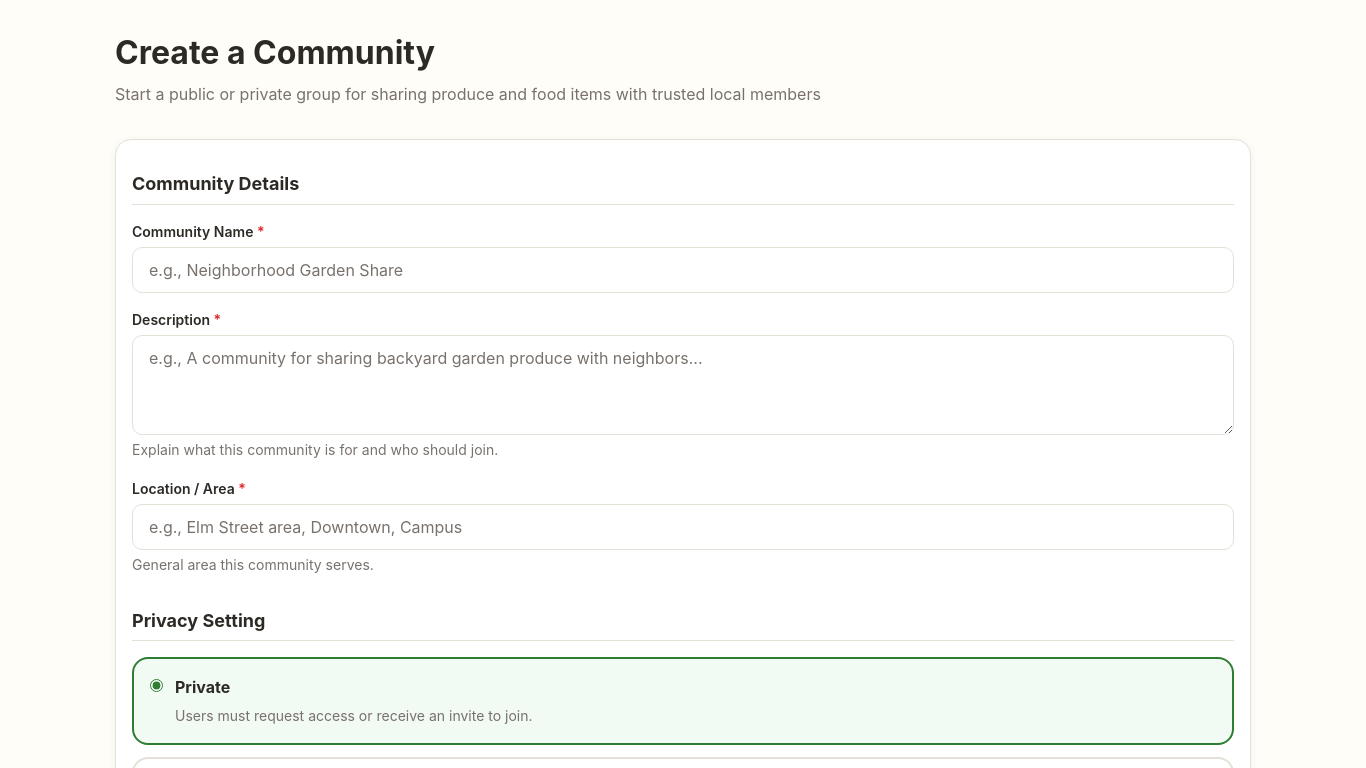
Test case: CreateCommunity › must show success screen after valid submission
Type "Green Valley Community" into the field labelled "Community Name *" at (683, 270), box [132,247,1234,293]
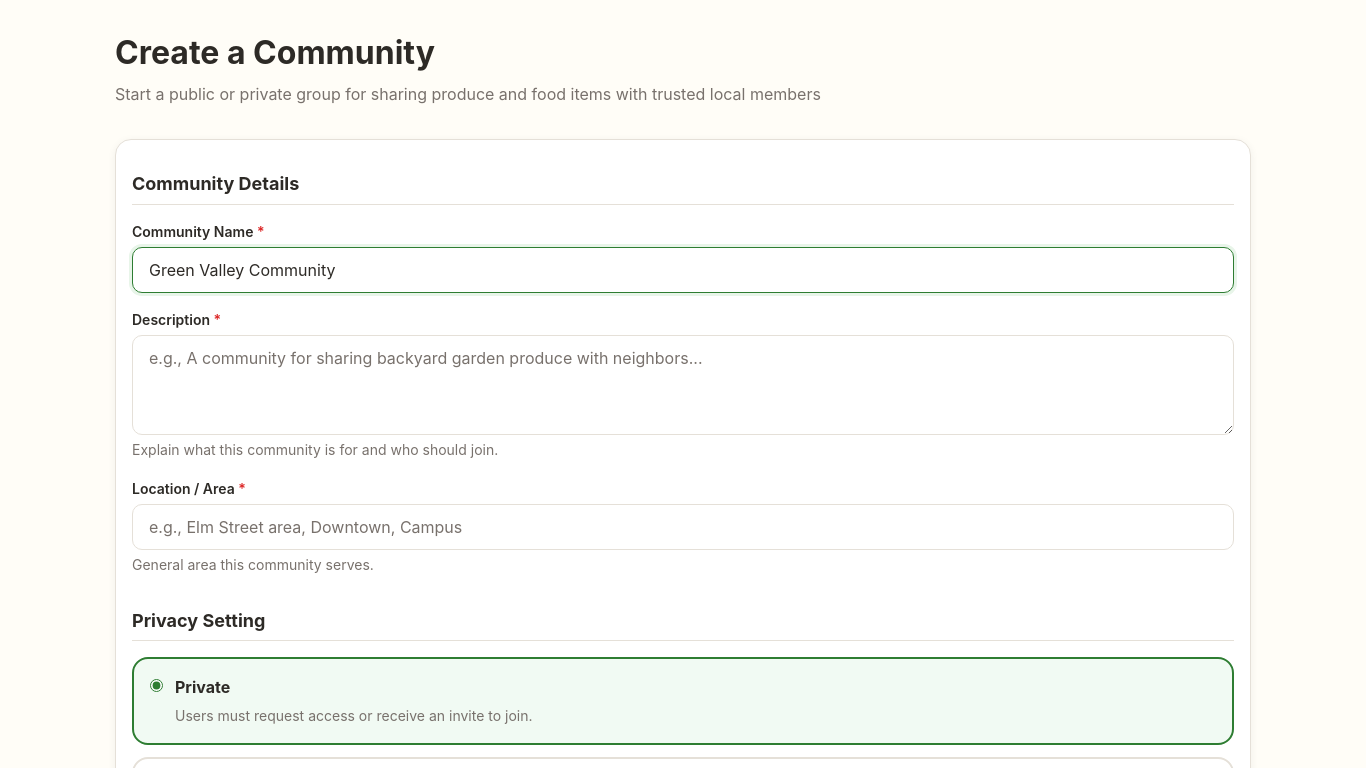
Type "A community for sharing fresh produce" into the text box labelled "Description *" at (683, 385), box [132,335,1234,435]
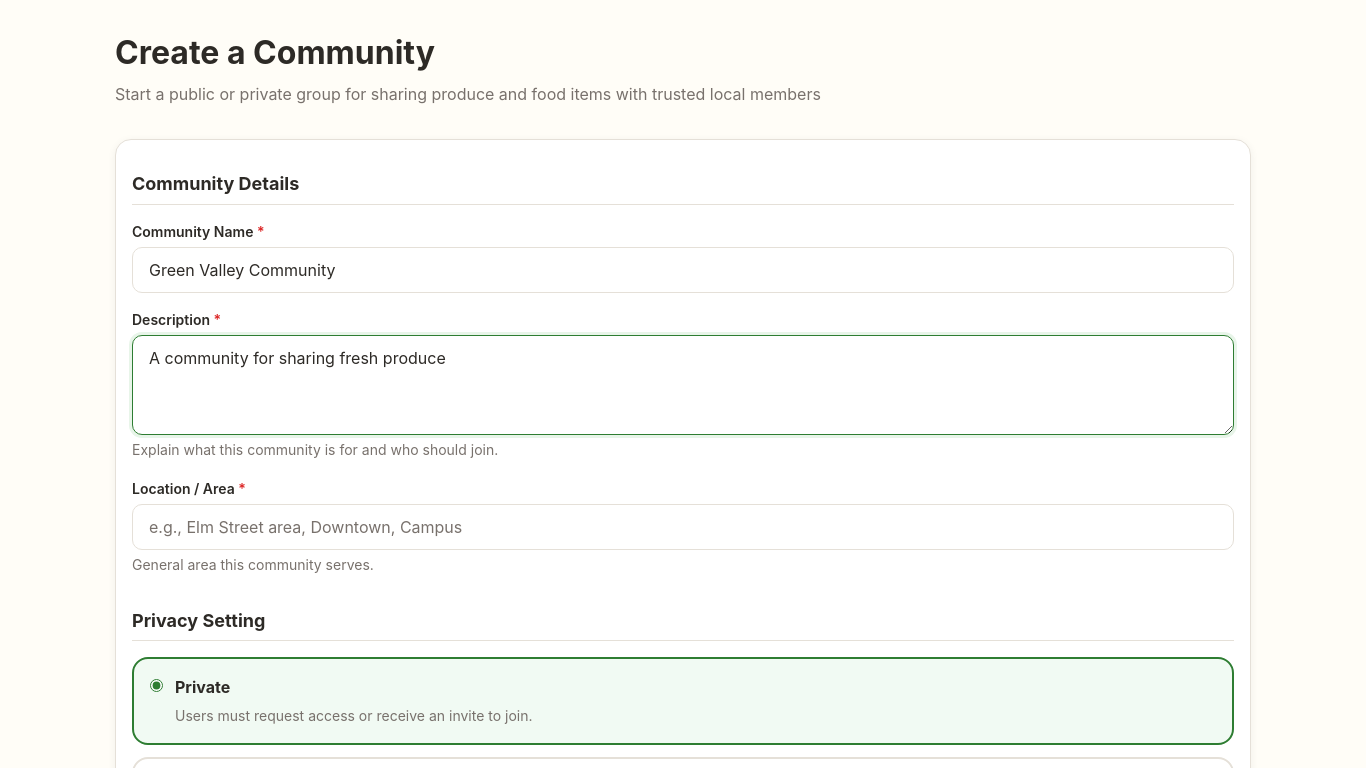
Type "Downtown area" into the field labelled "Location / Area *" at (683, 527), box [132,504,1234,550]
(page scrolled)
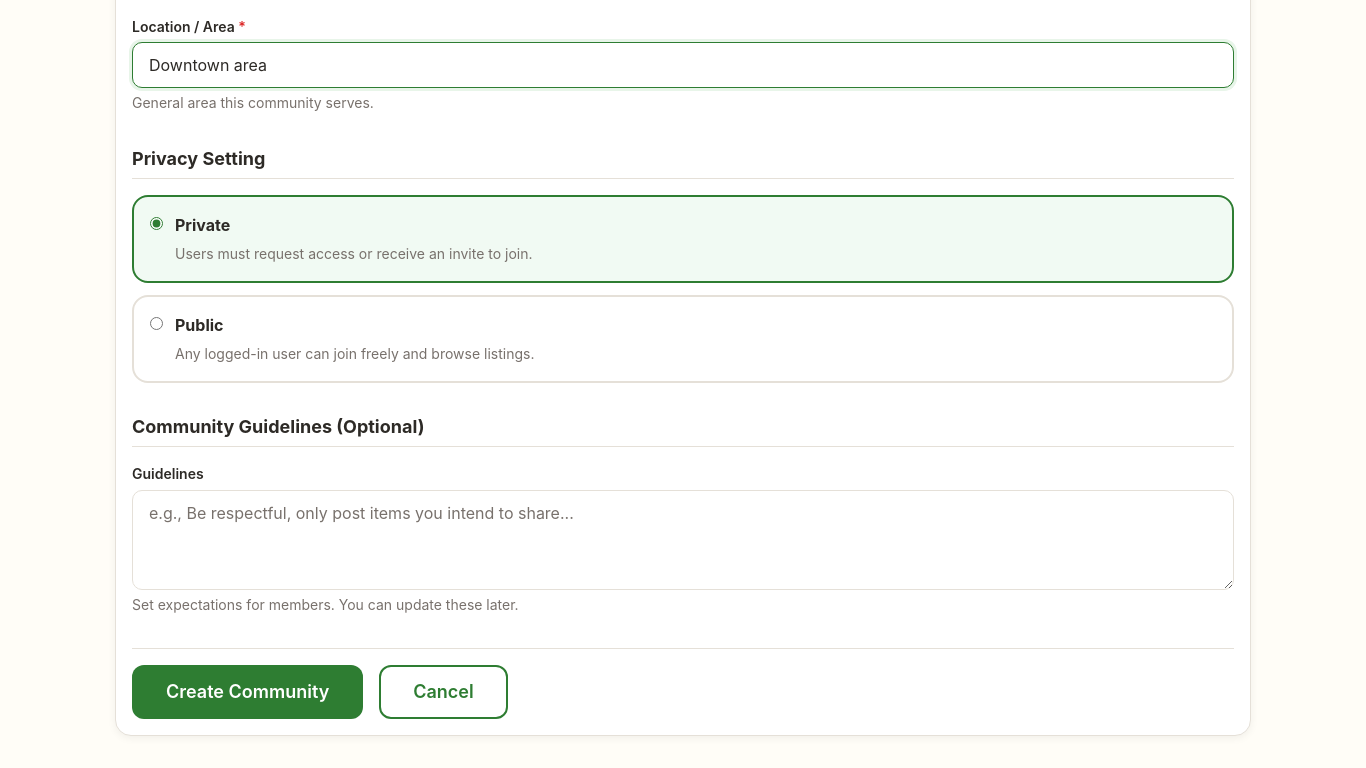
Click the button "Create Community" at (248, 692), box [132,665,363,719]
(page scrolled)
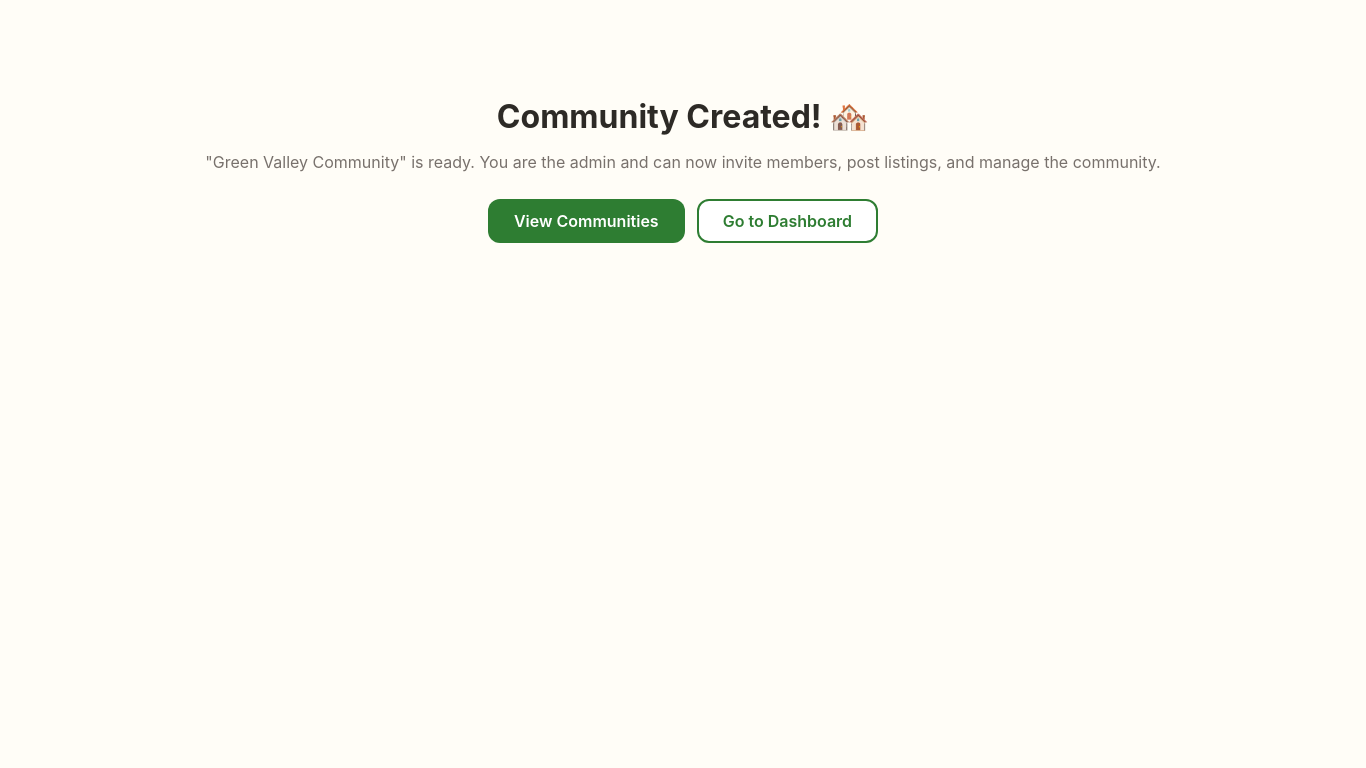
Check: the heading "Community Created! 🏘️" is shown, box [497,97,869,136]
Check: the text "Green Valley Community" is shown, box [213,152,399,172]
